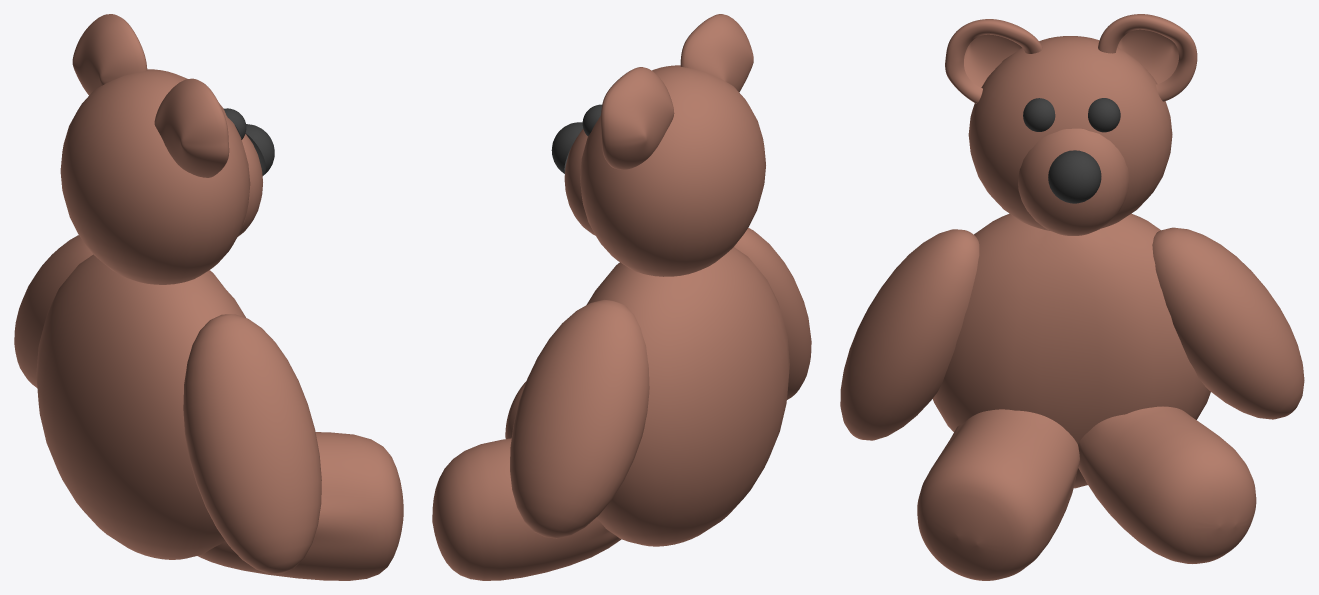
Rendered from stuffed_animal.fbx.
3 views of the same model, side by side, from view 1: azimuth 30°, elevation 25°; view 2: azimuth 150°, elevation 25°; view 3: azimuth 270°, elevation 25° (orthographic). The views are drawn at different scales.
Parts seen in each view (by area): view 1: body, arm_right, head, leg_right, ear_right, arm_left, ear_left, mouth, nose; view 2: body, head, arm_left, leg_left, ear_left, arm_right, ear_right, mouth, nose; view 3: body, leg_right, head, leg_left, arm_left, arm_right, mouth, ear_left, ear_right, nose, eye, eye.001.
Boxes of the visible parts, x1,y1,x2,y2 form: body: (36, 254, 245, 559); arm_right: (183, 314, 321, 573); head: (60, 69, 250, 284); leg_right: (198, 432, 403, 580); ear_right: (154, 78, 229, 177); arm_left: (14, 235, 93, 387); ear_left: (72, 14, 147, 95); mouth: (237, 134, 262, 236); nose: (245, 124, 274, 175); body: (586, 247, 789, 546); head: (580, 65, 765, 276); arm_left: (510, 299, 649, 538); leg_left: (432, 438, 621, 580); ear_left: (601, 67, 674, 169); arm_right: (734, 228, 811, 399); ear_right: (680, 14, 753, 92); mouth: (564, 129, 595, 235); nose: (551, 122, 583, 173); body: (932, 213, 1210, 488); leg_right: (917, 409, 1079, 580); head: (968, 36, 1172, 230); leg_left: (1078, 406, 1256, 563); arm_left: (1152, 227, 1304, 419); arm_right: (840, 229, 979, 440); mouth: (1018, 128, 1129, 235); ear_left: (1098, 14, 1197, 101); ear_right: (945, 19, 1042, 103); nose: (1048, 150, 1101, 203); eye: (1088, 98, 1120, 132); eye.001: (1023, 98, 1055, 131).
Size of the model in its own units: 228 by 403 by 343.
